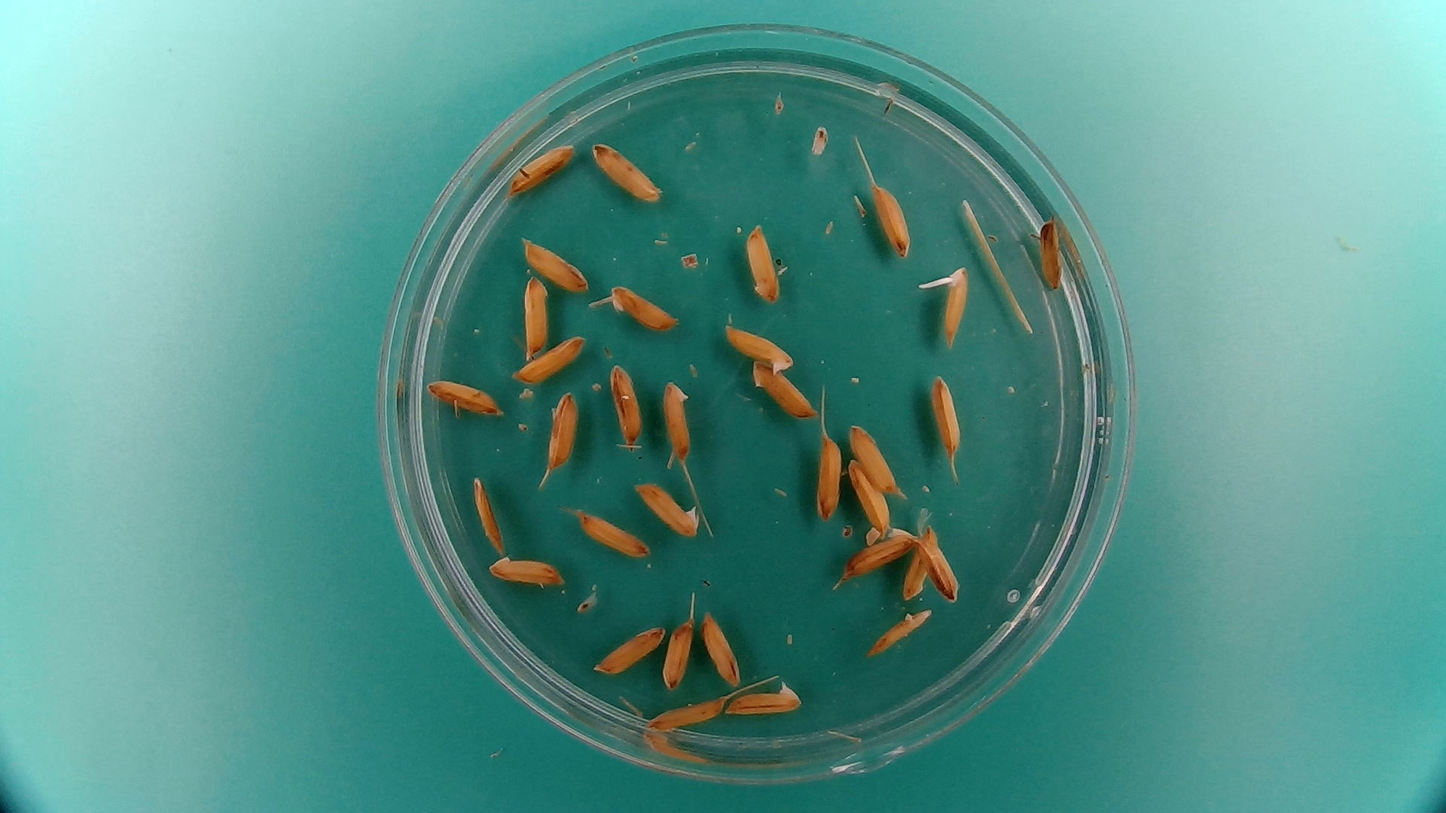no: (588, 139, 661, 202), (841, 525, 920, 582), (631, 478, 702, 540), (847, 420, 903, 496), (601, 282, 682, 334), (748, 361, 818, 421), (510, 331, 587, 385), (520, 235, 590, 294), (591, 623, 667, 676), (721, 321, 798, 373), (572, 508, 650, 559), (863, 604, 935, 659), (508, 139, 578, 195), (868, 178, 914, 258), (609, 358, 647, 453), (422, 376, 505, 419), (847, 458, 890, 540), (643, 695, 728, 736), (745, 220, 786, 305), (721, 677, 805, 718), (698, 607, 741, 687), (920, 522, 962, 603), (542, 385, 580, 473), (658, 376, 694, 465), (929, 372, 965, 458), (903, 519, 938, 606), (658, 614, 697, 690), (468, 474, 505, 553), (484, 553, 566, 588), (1030, 214, 1066, 289), (520, 275, 552, 358), (814, 431, 842, 519)
yes: (939, 263, 970, 348)
